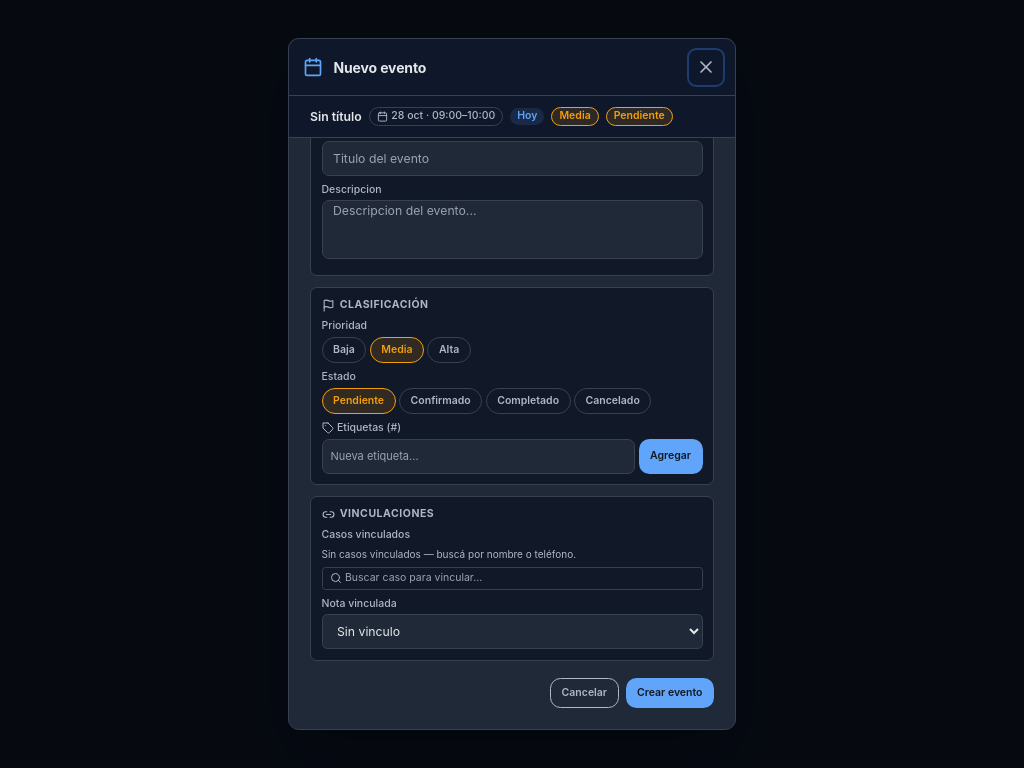
Test case: Accesibilidad: EventModal (aria-live y aria-pressed) › anuncia errores de validación con role=alert y aria-live
(page scrolled)
Click the button "Crear evento": (670, 693) [626,678,714,708]
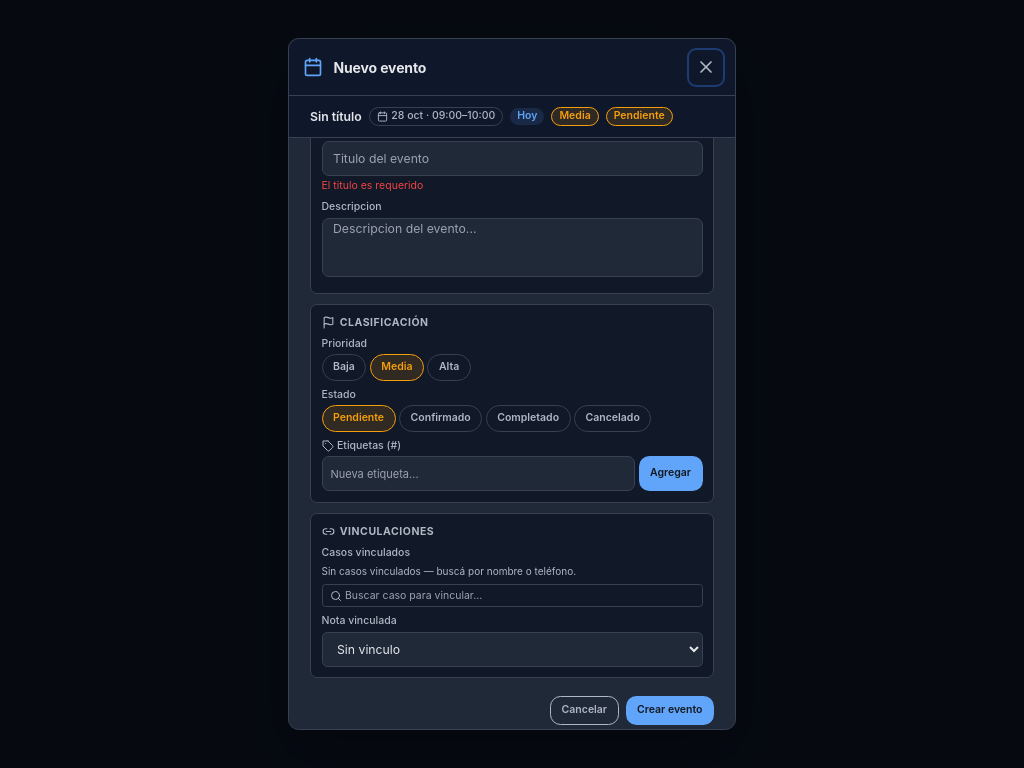
Result: the message "El titulo es requerido" is shown at [322,179,423,192]
